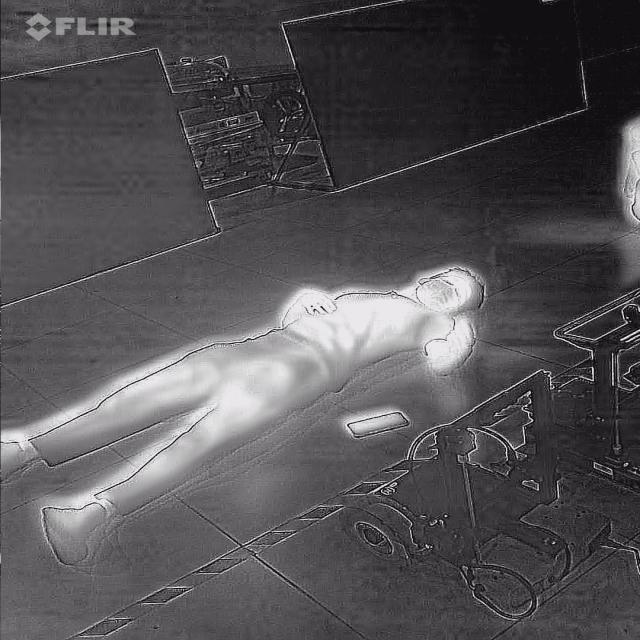Victim: (0, 264, 495, 564)
